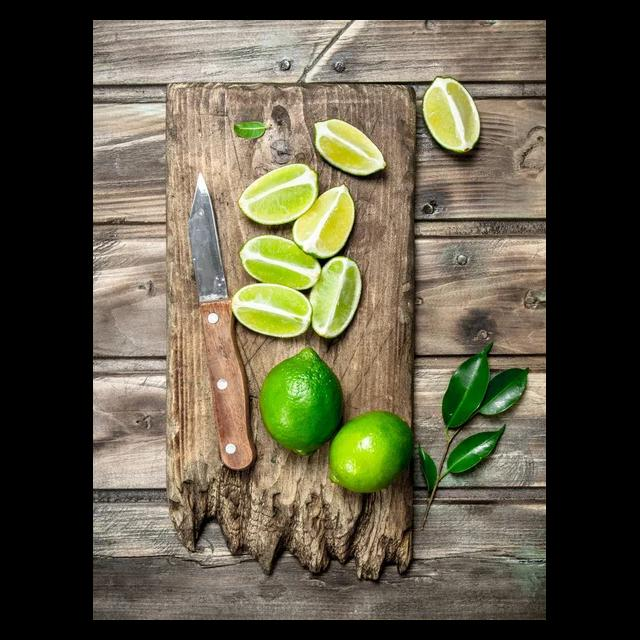lime: (258, 344, 350, 462), (321, 409, 422, 500)
